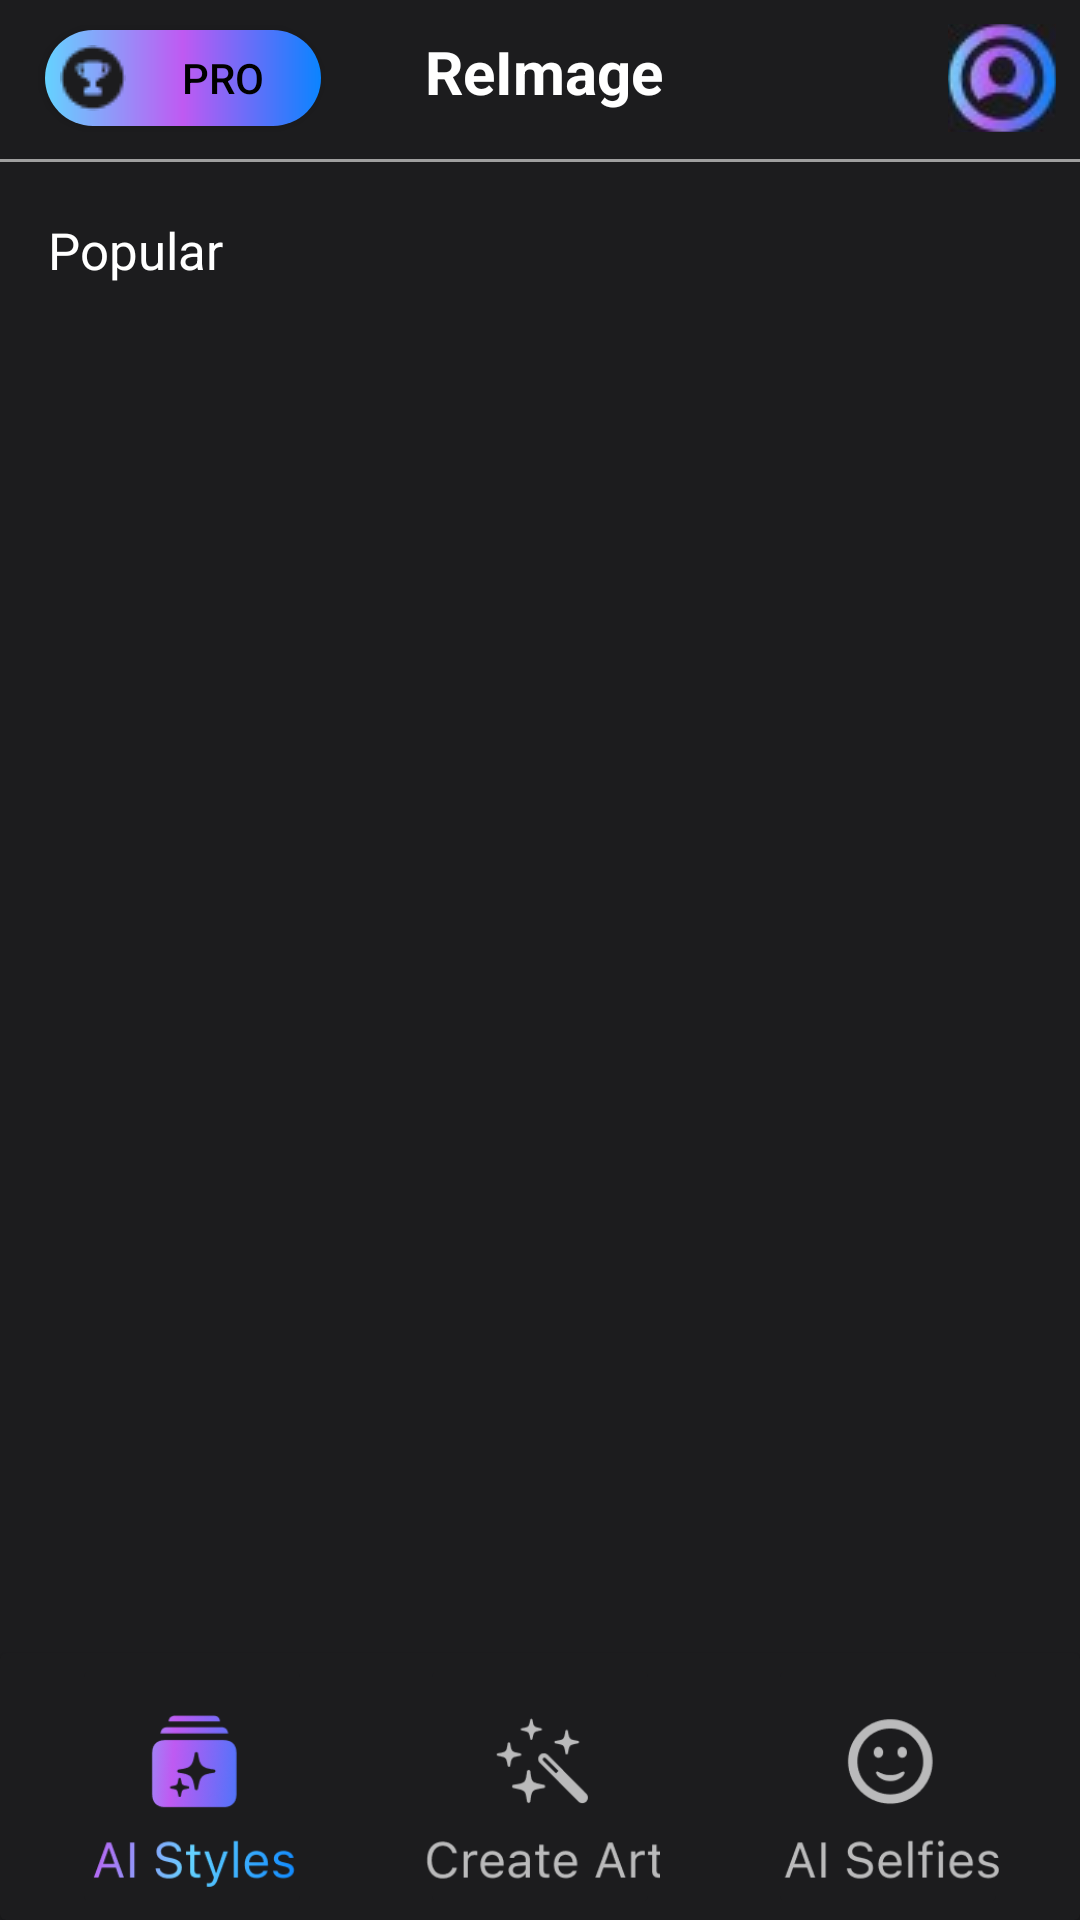

Where to tap for icons on this 1080*1920 app screen, as point (x, y):
user: point (1002, 78)
